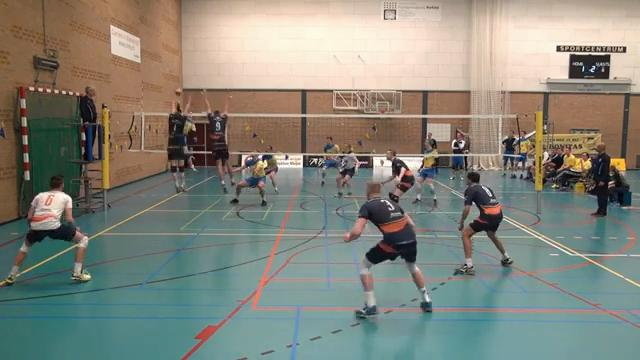Attack: (179, 108, 198, 174)
Block: (200, 86, 237, 197), (160, 92, 189, 196)
Player: (344, 182, 431, 317), (4, 175, 90, 284), (454, 172, 512, 274), (230, 152, 266, 205), (382, 150, 414, 201), (413, 142, 437, 205), (336, 144, 358, 196), (321, 136, 339, 185), (262, 145, 277, 194)
ball: (173, 86, 183, 97)
